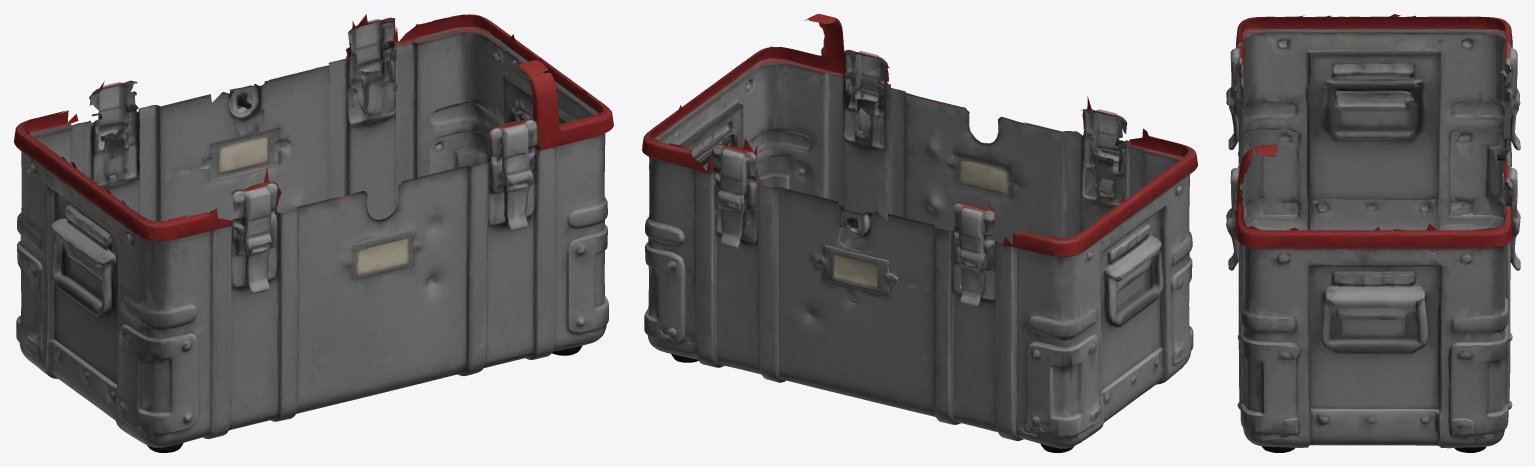
The picture shows the model from 3 angles, left to right: view 1: azimuth 30°, elevation 25°; view 2: azimuth 150°, elevation 25°; view 3: azimuth 270°, elevation 25°; orthographic projection. The views are drawn at different scales.
Visible parts, largest first — view 1: world; view 2: world; view 3: world.
Part boxes in pixels (x1,y1,x2,y2): world: (14,14,613,452); world: (642,14,1197,452); world: (1226,14,1520,452).
Size of the model in its own units: 0.45 by 0.2674 by 0.2537.
Materials: 1 (1 with a texture image).
